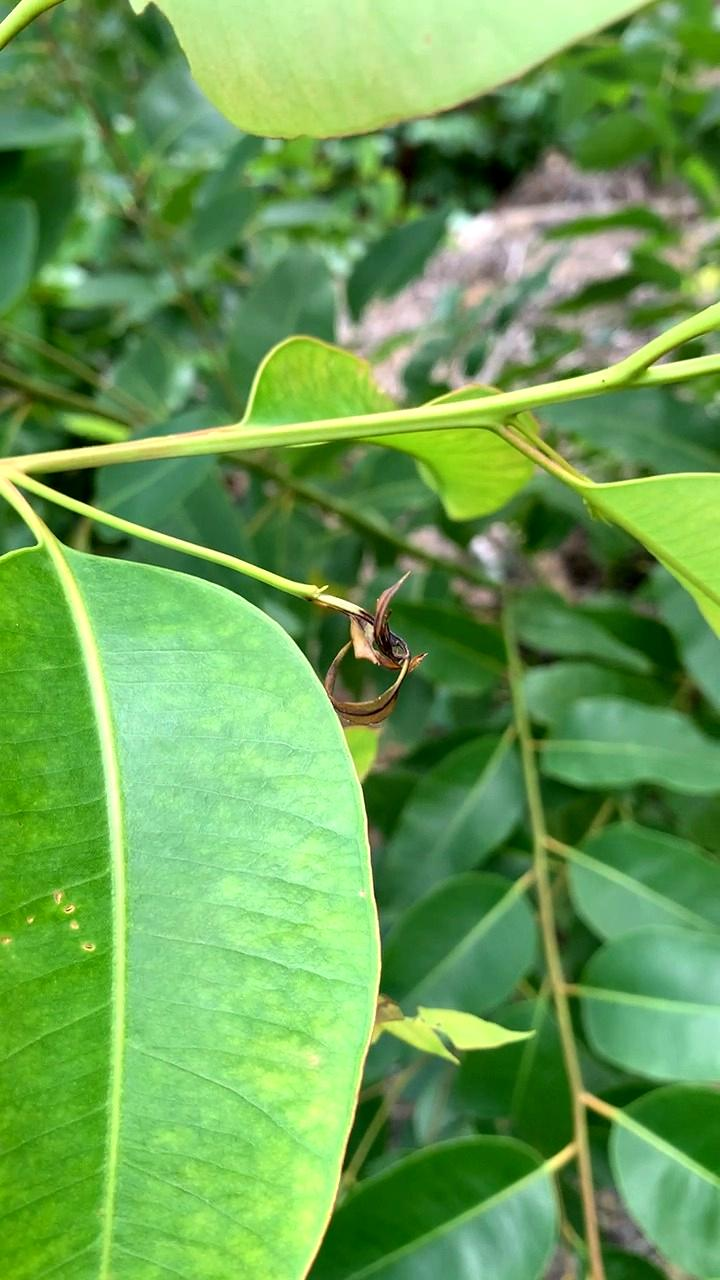Helopeltis-Withered Sprout: (299, 553, 450, 733)
